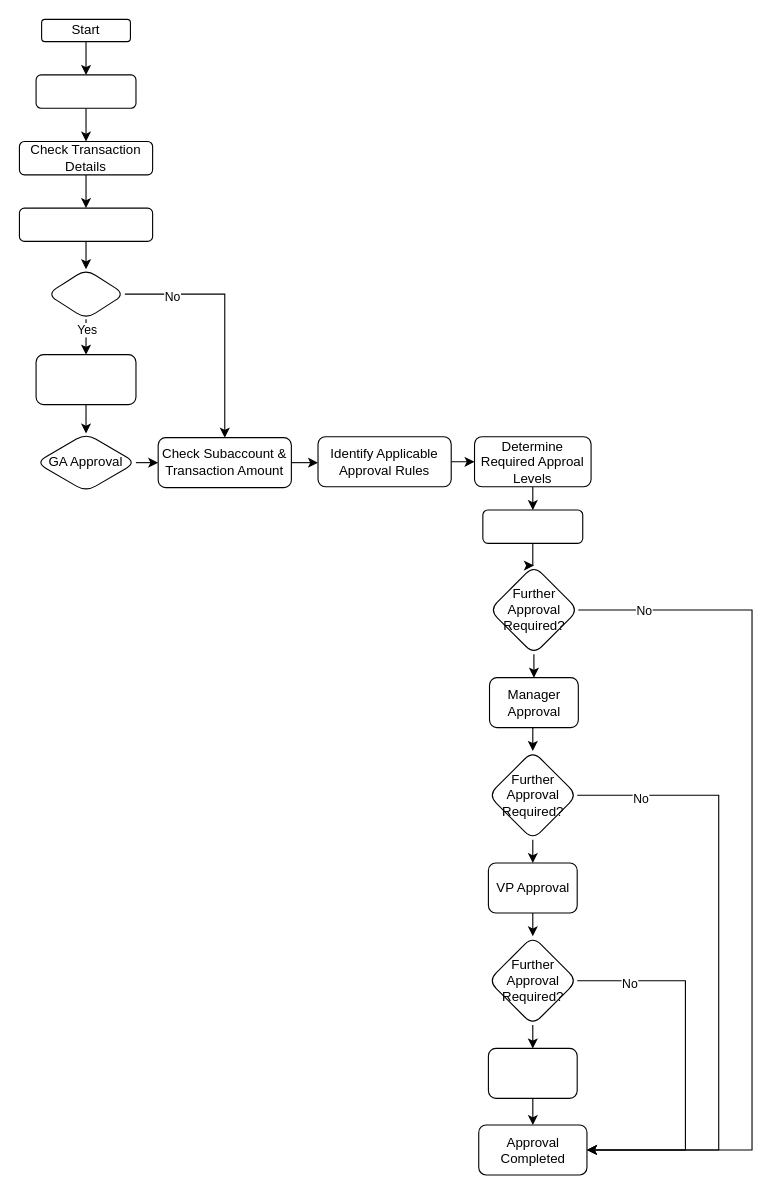
Some shapes in this 780 by 1194 pixel diagram are drawn without their labels. Here are the shapes that lost their labels. From the top down, the box of each, then its label:
(35, 74, 136, 108): Transaction Submitted
(18, 207, 153, 241): Inventory Classification
(46, 268, 125, 319): Asset?
(35, 354, 136, 405): Route to GA for Initial Approval
(482, 509, 583, 543): SPV Approval
(487, 1047, 577, 1098): C-Level Approval
